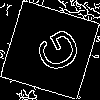G: (25, 25, 84, 81)
